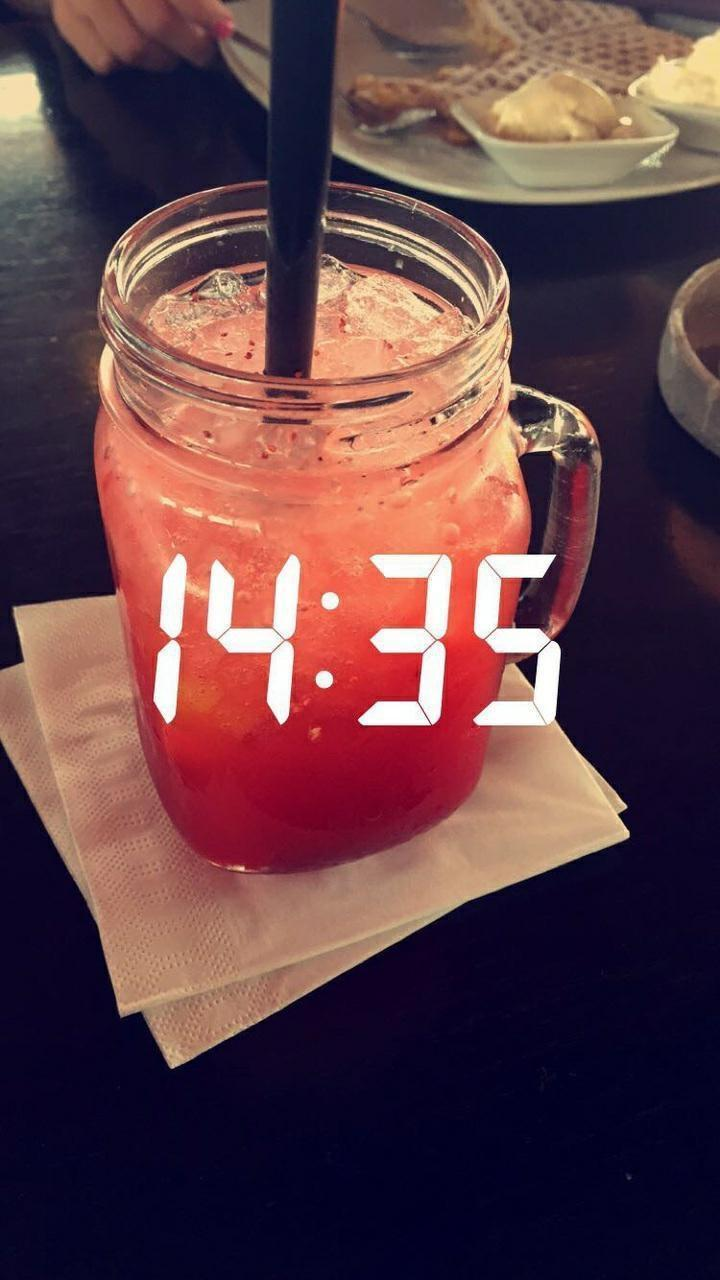glass-mug: (89, 174, 599, 878)
